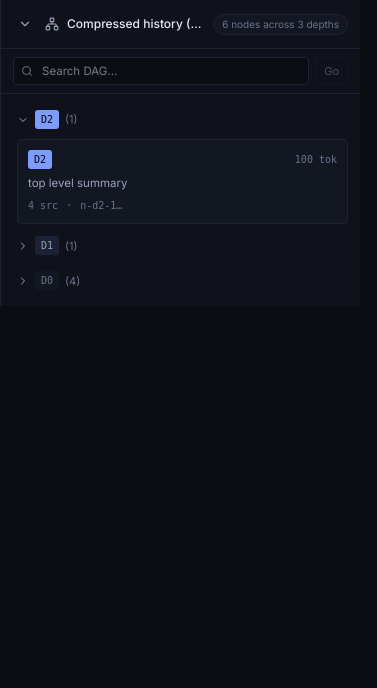
Test: <DagPanel /> › clicking a depth header collapses/expands its node list
expect the element with test id "dag-node-n-d2-1" is shown: met, box [17,139,348,224]
// Expand D0.
Click the button with test id "dag-depth-toggle-0": (23, 281) [13,267,348,294]
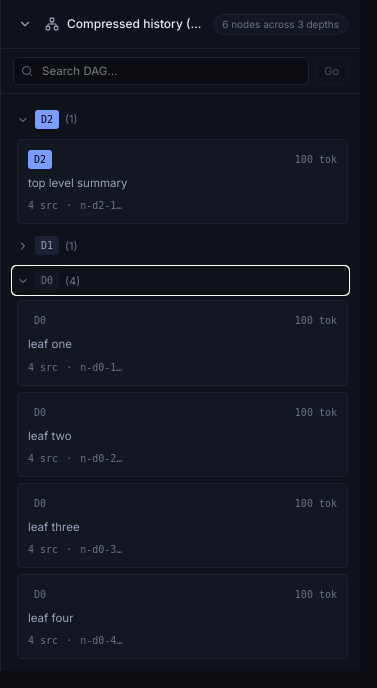
expect the element with test id "dag-node-n-d0-1" is shown: met, box [17,300,348,386]
// Collapse D0 again.
Click the button with test id "dag-depth-toggle-0": (23, 281) [13,267,348,294]
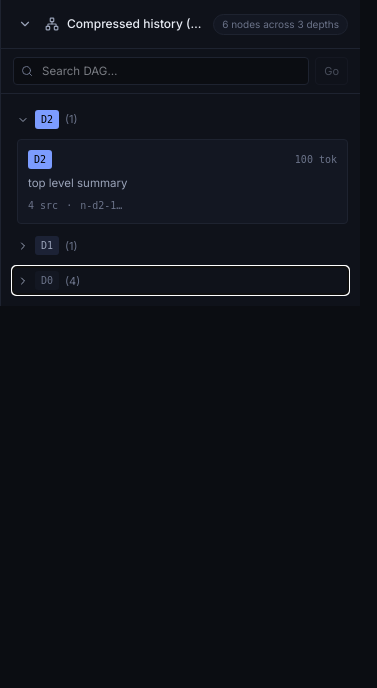
expect the element with test id "dag-node-n-d0-1" is gone: met
